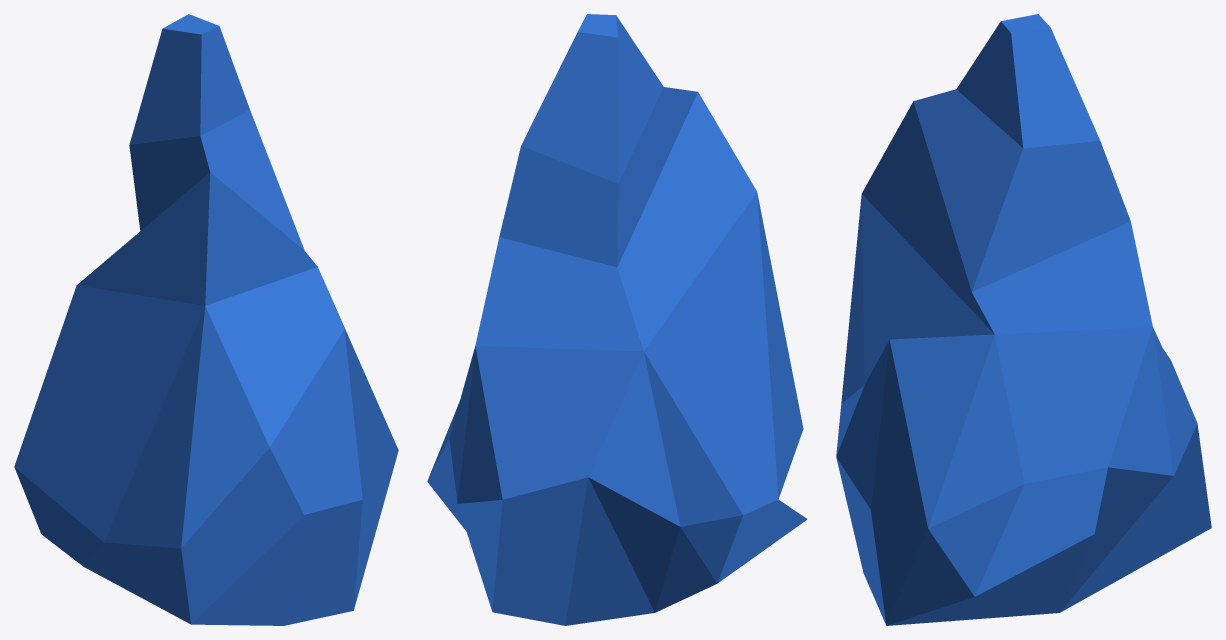
The model's file is CrystalShard.fbx.
3 views of the same model, side by side, from view 1: azimuth 30°, elevation 25°; view 2: azimuth 150°, elevation 25°; view 3: azimuth 270°, elevation 25° (orthographic). The views are drawn at different scales.
Parts seen in each view (by area): view 1: Shard; view 2: Shard; view 3: Shard.
Part boxes in pixels (x1,y1,x2,y2): Shard: (14,14,398,625); Shard: (427,14,807,625); Shard: (836,14,1211,625).
Bounding box in the file's own units: 65.71 × 112 × 67.68.
